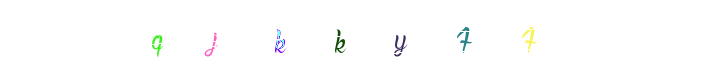7: (387, 0, 467, 80), (489, 0, 569, 80)
J: (209, 0, 289, 80)
K: (286, 0, 366, 80), (317, 0, 397, 80)
Q: (117, 0, 197, 80)
Y: (323, 0, 403, 80)
